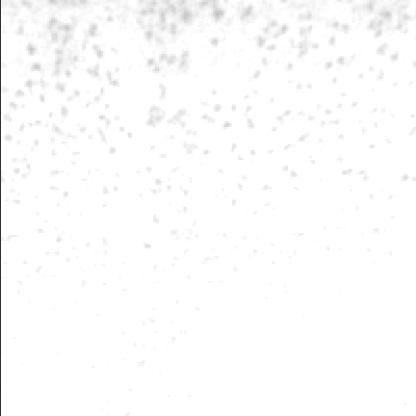pitted_surface: (6, 100, 416, 416), (2, 6, 404, 138)
